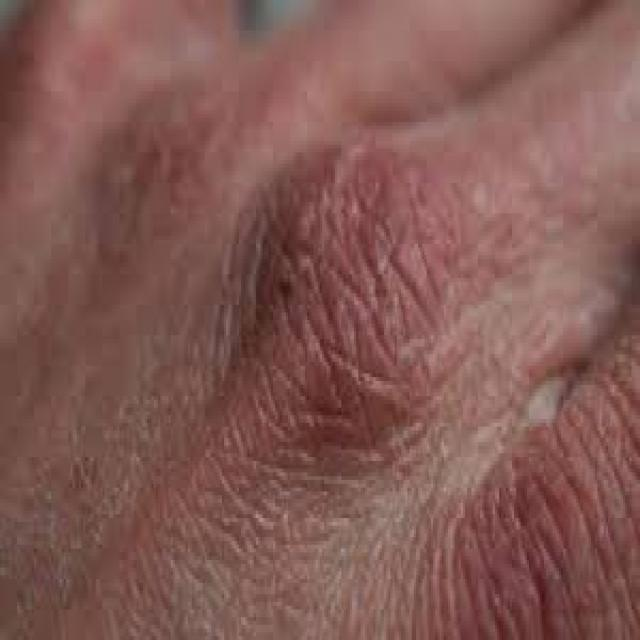dry: (10, 340, 209, 624), (243, 148, 443, 402)
